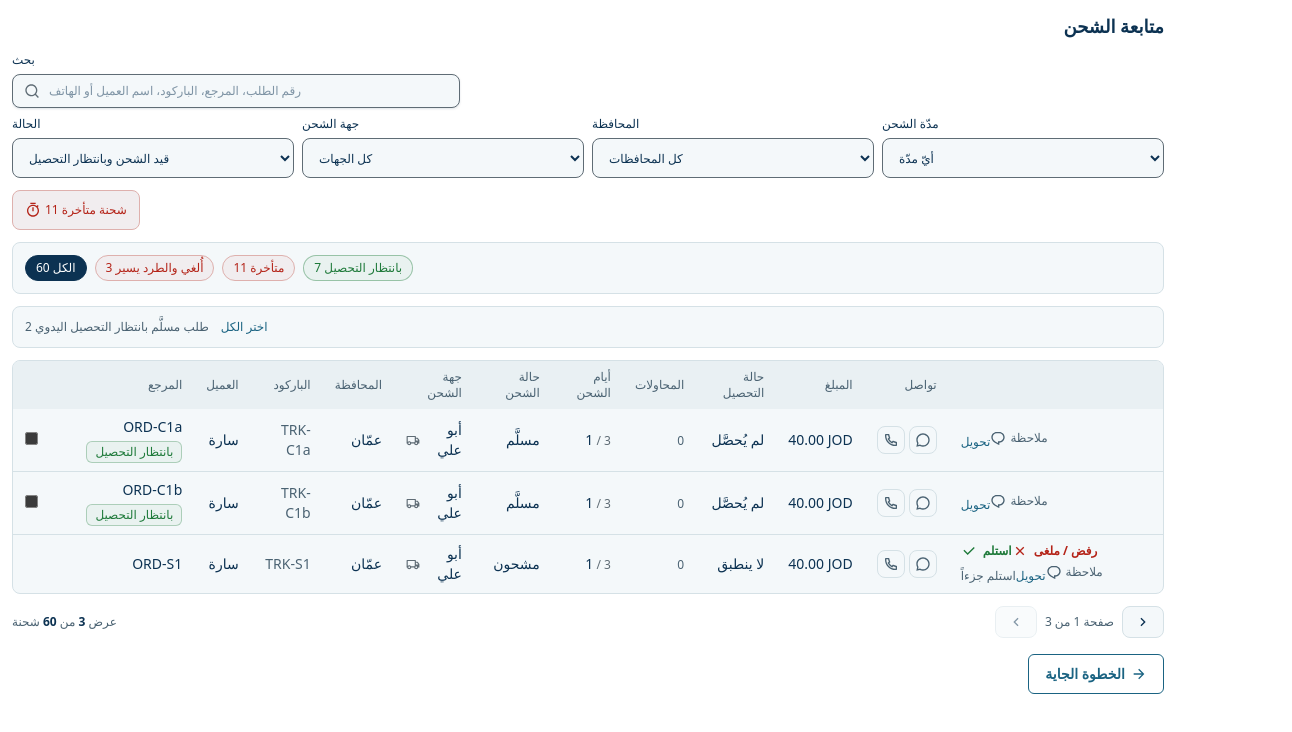
collecting by hand, on the page that is shown › — the bar counts the parcels of THIS page that are owed, and «اختر الكل» takes those
Check: the dropdown labelled "جهة الشحن" is shown, box [302,138,584,178]
Check: the text "2 طلب مسلَّم بانتظار التحصيل اليدوي" is shown, box [25,319,209,335]
What coordinates should you click on to do the following:
click the button "اختر الكل"
I would click on:
 (244, 327)
Its box is [221,319,268,335].
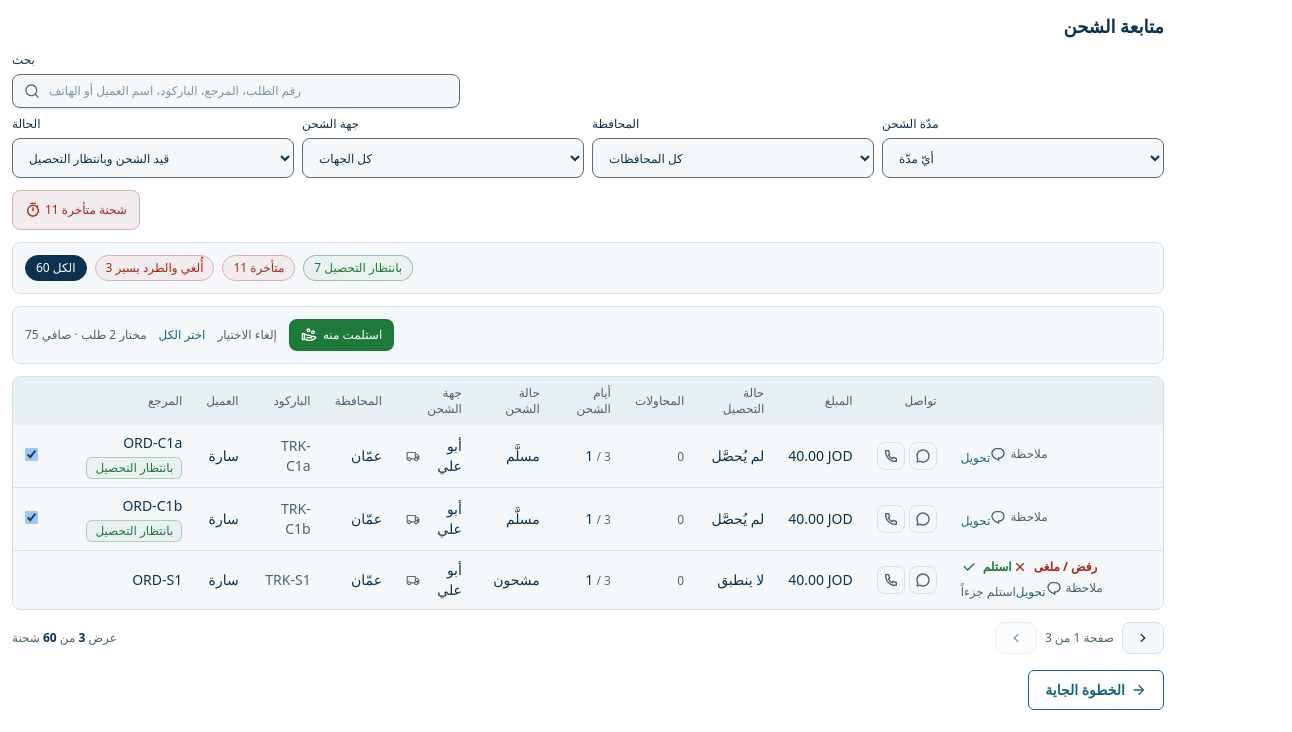
Check: the text "مختار 2 طلب · صافي 75" is shown, box [25,327,147,343]
